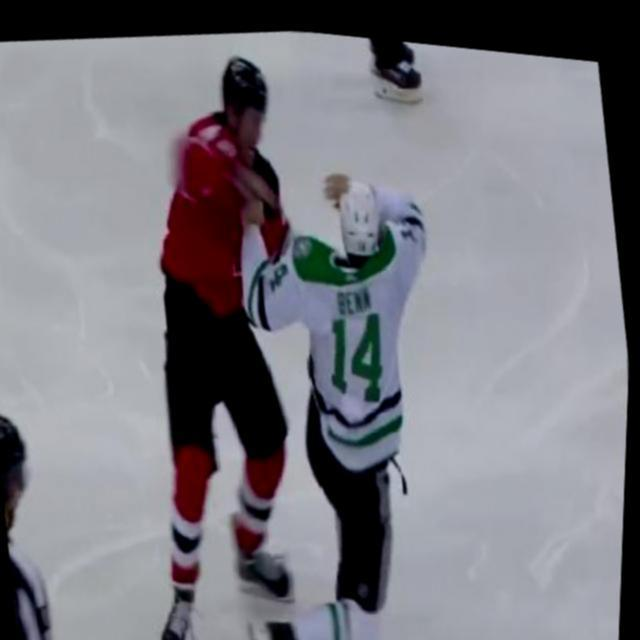fight: (87, 9, 504, 640)
